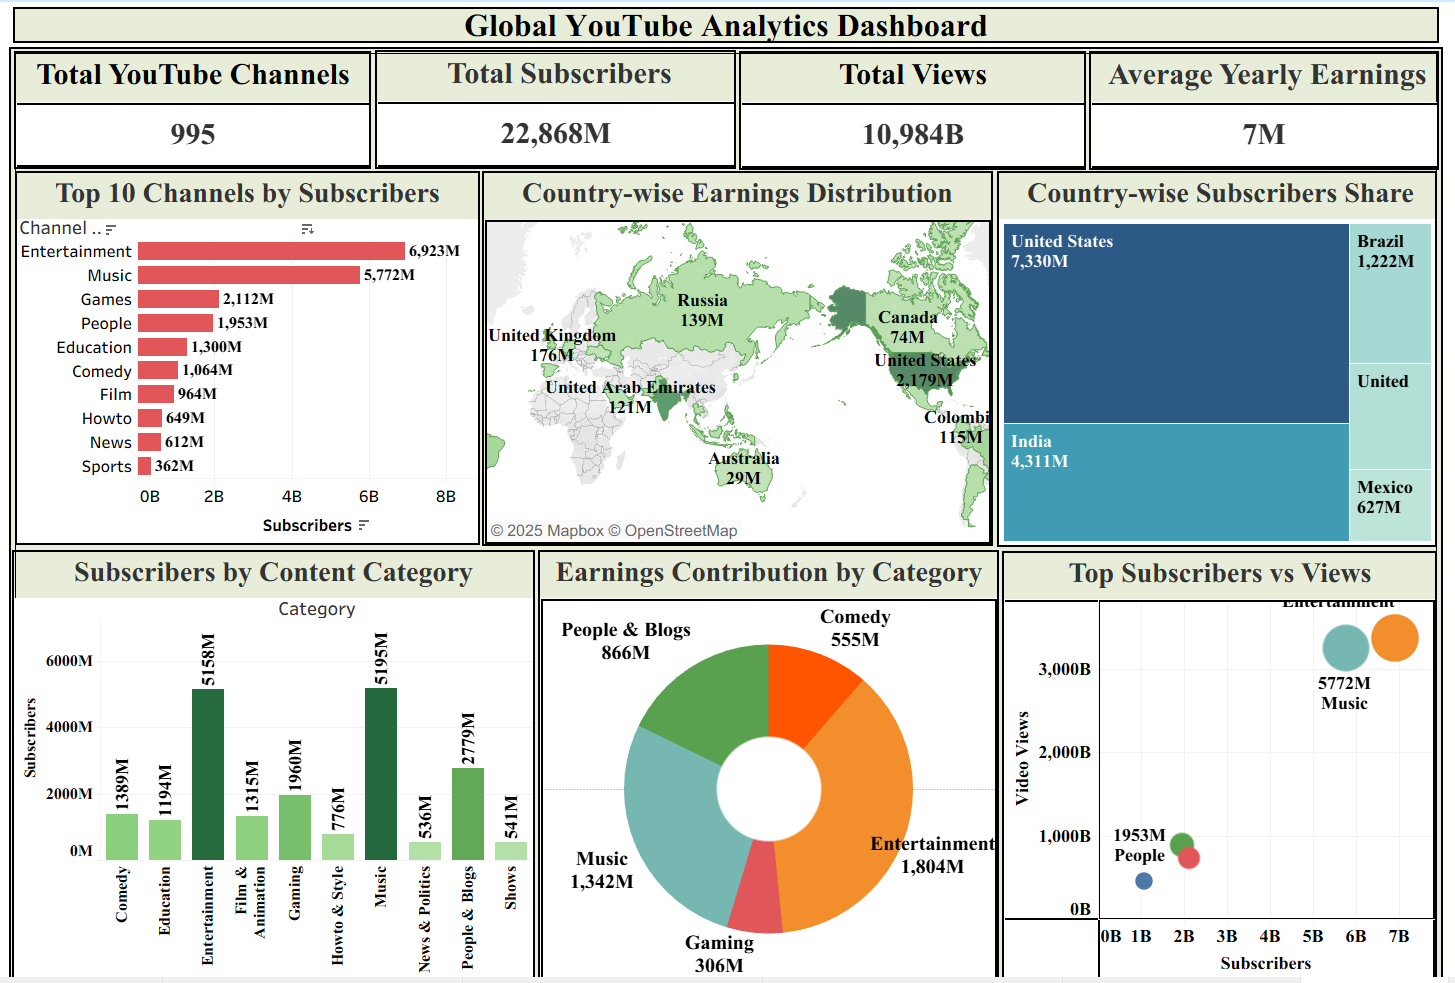

The page's visual inventory and layout, read from the dashboard file:
{"tool":"tableau","page":{"name":"Dashboard 1","canvas":[1450,1000],"ordinal":0},"visuals":[{"type":"title","box":[8,8,1434,44]},{"type":"dashboard-object","param":"[com.tableau.addfilters].[0.0.0].[https://extensions.tableauusercontent.com/sand","box":[10,54,1430,936]},{"type":"worksheet","title":" Total Subscribers","mark":"Automatic","box":[374,55,361,119]},{"type":"worksheet","title":"Total YouTube Channels","mark":"Automatic","box":[13,56,357,118]},{"type":"worksheet","title":" Total Views","mark":"Automatic","box":[738,56,347,119]},{"type":"worksheet","title":" Average Yearly Earnings","mark":"Automatic","box":[1088,56,350,119]},{"type":"worksheet","title":"Top 10 Channels by Subscribers","mark":"Automatic","rows":["channel_type"],"cols":["subscribers"],"box":[14,176,465,374]},{"type":"worksheet","title":"Country-wise Earnings Distribution","mark":"Automatic","box":[481,176,511,375]},{"type":"worksheet","title":" Country-wise Subscribers Share","mark":"Automatic","box":[996,176,440,376]},{"type":"worksheet","title":"Subscribers by Content Category","mark":"Automatic","rows":["subscribers"],"cols":["category"],"box":[11,555,523,432]},{"type":"worksheet","title":"Earnings Contribution by Category","mark":"Automatic","rows":["Calculation_1127307302749962246","Calculation_1127307302749970440"],"box":[537,555,461,432]},{"type":"worksheet","title":"Top Subscribers vs Views","mark":"Circle","rows":["video views"],"cols":["subscribers"],"box":[1001,556,435,432]}]}

Visuals, with their boxes in screenshot pixels (x1, y1, x2, y2), scaled from the page's 1450x1000 canvas onto the 1455x983 screenshot:
title: region(8, 8, 1447, 51)
dashboard-object: region(10, 53, 1445, 973)
" Total Subscribers" worksheet: region(375, 54, 738, 171)
"Total YouTube Channels" worksheet: region(13, 55, 371, 171)
" Total Views" worksheet: region(741, 55, 1089, 172)
" Average Yearly Earnings" worksheet: region(1092, 55, 1443, 172)
"Top 10 Channels by Subscribers" worksheet: region(14, 173, 481, 541)
"Country-wise Earnings Distribution" worksheet: region(483, 173, 995, 542)
" Country-wise Subscribers Share" worksheet: region(999, 173, 1441, 543)
"Subscribers by Content Category" worksheet: region(11, 546, 536, 970)
"Earnings Contribution by Category" worksheet: region(539, 546, 1001, 970)
"Top Subscribers vs Views" worksheet (Circle marks): region(1004, 547, 1441, 971)
